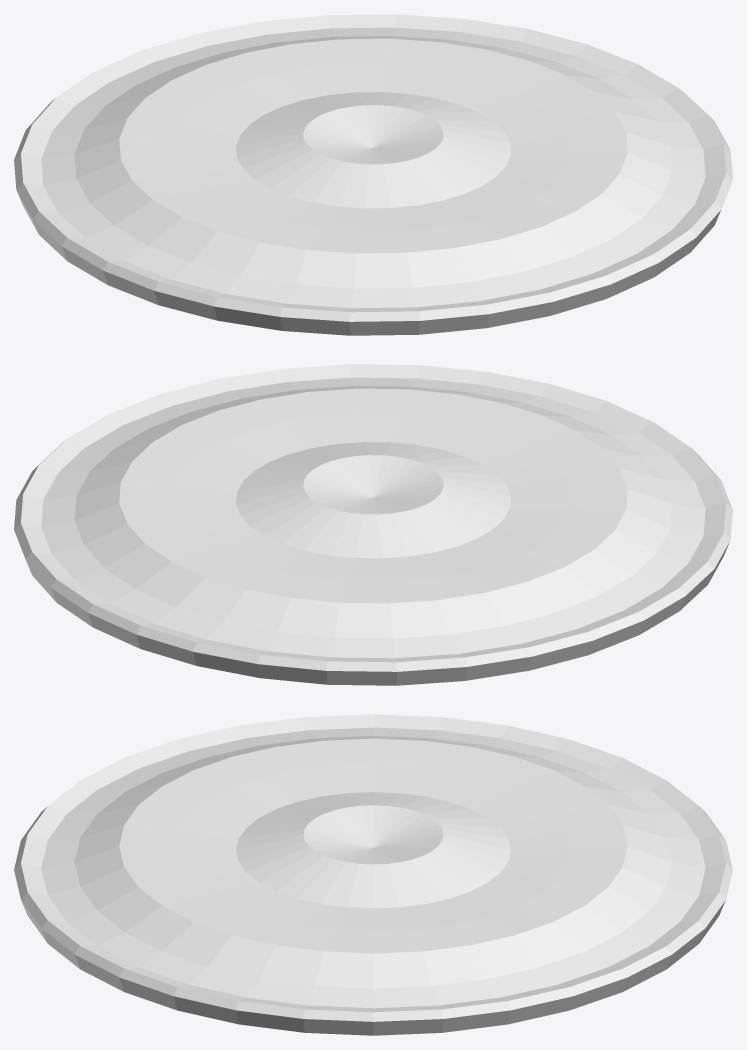
File: Portal_Model_v1.fbx
3 views of the same model, one above another, from view 1: azimuth 30°, elevation 25°; view 2: azimuth 150°, elevation 25°; view 3: azimuth 270°, elevation 25° (orthographic).
Parts seen in each view (by area): view 1: Sphere; view 2: Sphere; view 3: Sphere.
Part boxes in pixels (box(x1,y1,x2,y2)): Sphere: box(14, 14, 732, 335); Sphere: box(14, 364, 732, 685); Sphere: box(14, 714, 732, 1035).
Bounding box in the file's own units: 200 × 23.98 × 200.
1 material, 1 textured.
